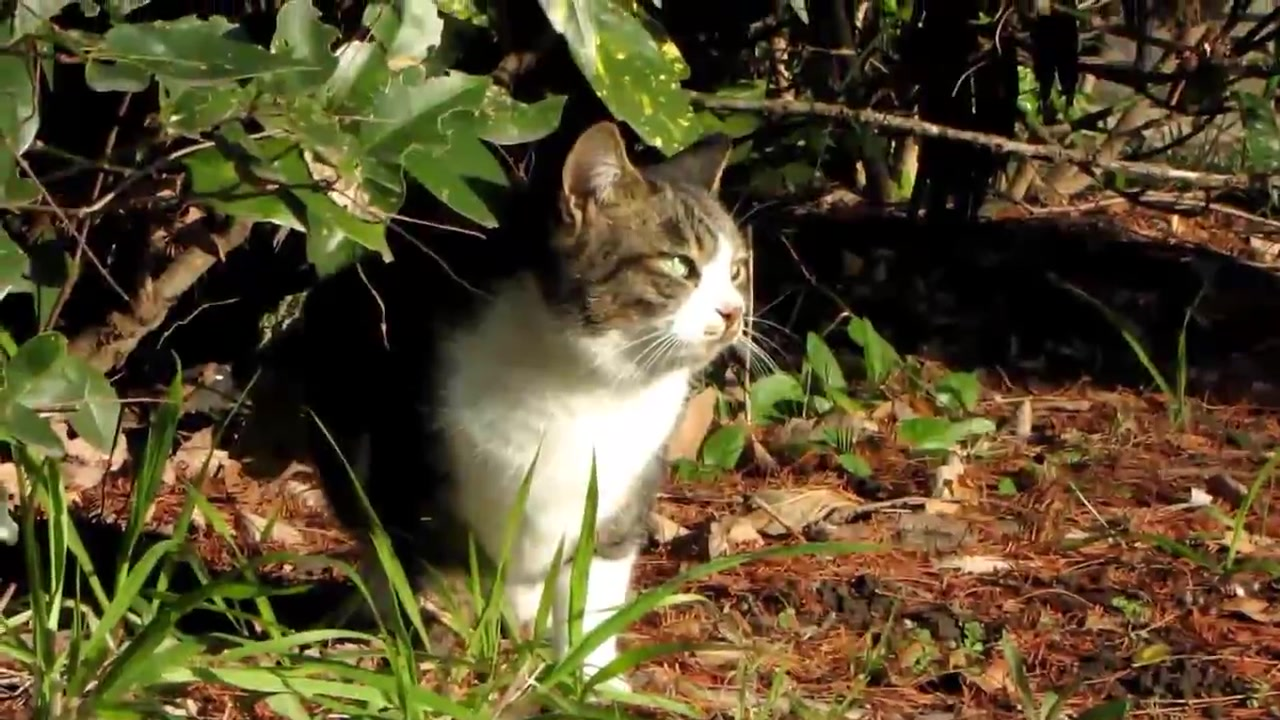cat: (285, 124, 778, 690)
